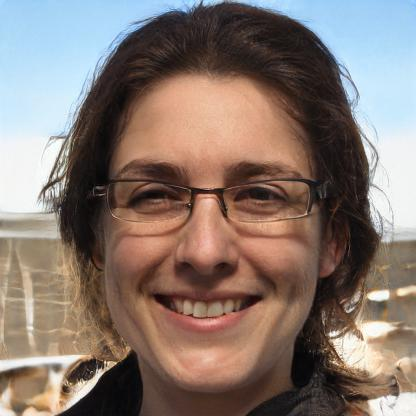glasses: (101, 171, 318, 234)
